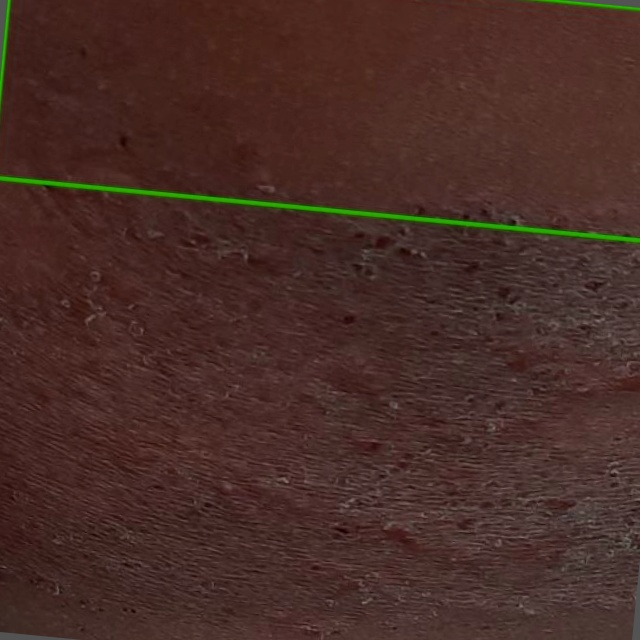Tinea Corporis: (0, 0, 639, 240)
